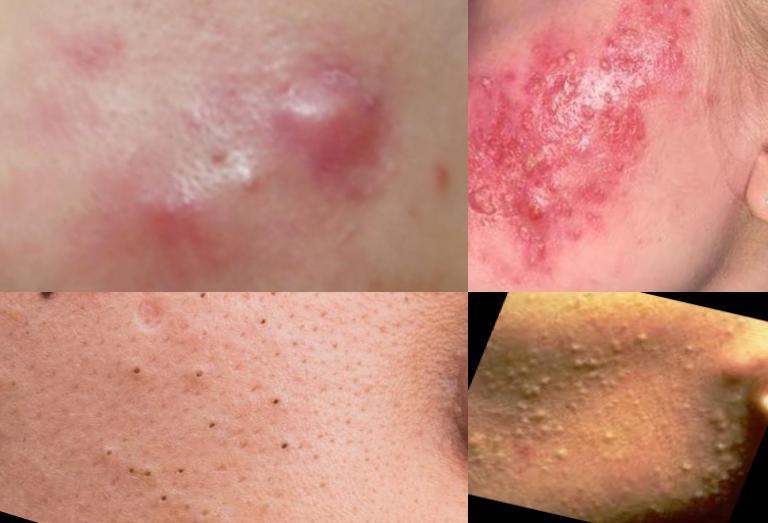acne_scars: (131, 293, 175, 339)
blackhead: (81, 430, 203, 522), (266, 430, 323, 476), (1, 363, 47, 417), (185, 354, 227, 398), (116, 348, 155, 394), (261, 384, 306, 422), (179, 293, 228, 319), (198, 413, 236, 446), (67, 293, 118, 309)
cystic: (258, 51, 402, 189), (113, 160, 227, 277), (510, 178, 567, 232), (515, 129, 567, 188), (469, 172, 512, 227), (562, 128, 601, 175), (542, 75, 577, 120)
purulent: (225, 159, 278, 209), (471, 63, 508, 100), (590, 46, 621, 83)
sebo-crystan-conglo: (498, 222, 559, 282), (547, 38, 588, 77)
whitehead: (505, 400, 579, 450), (496, 363, 564, 407), (600, 314, 660, 362), (554, 341, 615, 378), (557, 376, 609, 416), (469, 425, 515, 466), (695, 406, 738, 438), (695, 457, 730, 485), (544, 443, 579, 470), (673, 354, 707, 381), (591, 423, 624, 449), (708, 436, 737, 459), (676, 337, 705, 360), (672, 456, 700, 479), (684, 485, 712, 507)
